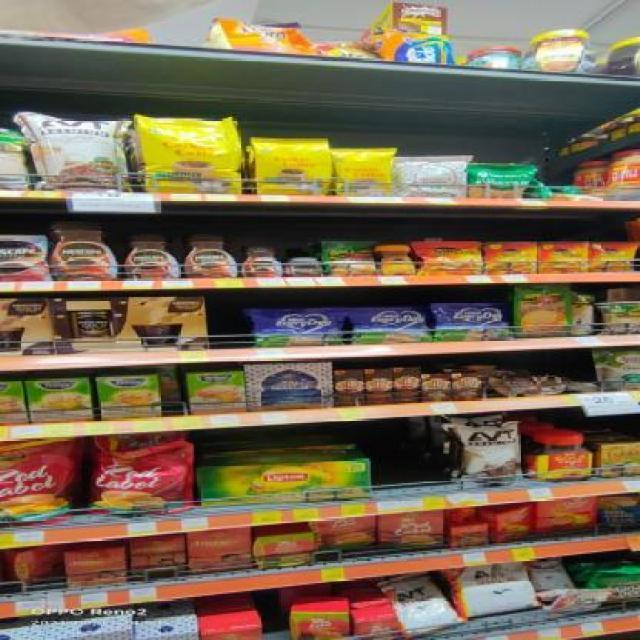Coffee: (48, 222, 118, 278), (124, 233, 182, 278), (180, 233, 239, 276), (1, 236, 51, 280), (418, 241, 478, 274), (376, 246, 416, 275), (244, 247, 282, 277), (287, 257, 320, 276)
